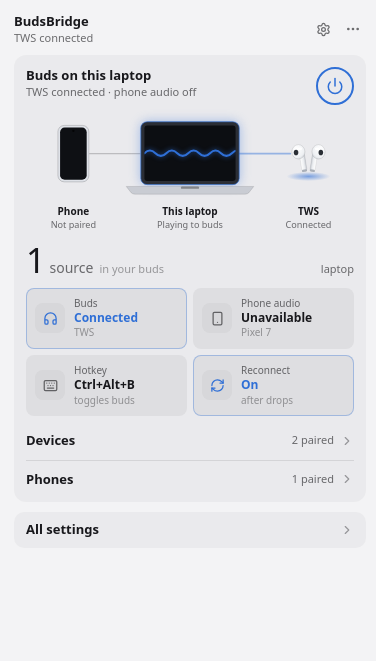
Test: Dock › lists a paired phone Windows won't stream from, with what to do
Expected: the button "Phones 1 paired" is shown, [26,461,354,498]
What coordinates should you click on to do the following:
click the button named "Phone audio unavailable for Pixel 7. Show why"
I would click on:
 (274, 318)
Its box is [193,288,354,349].
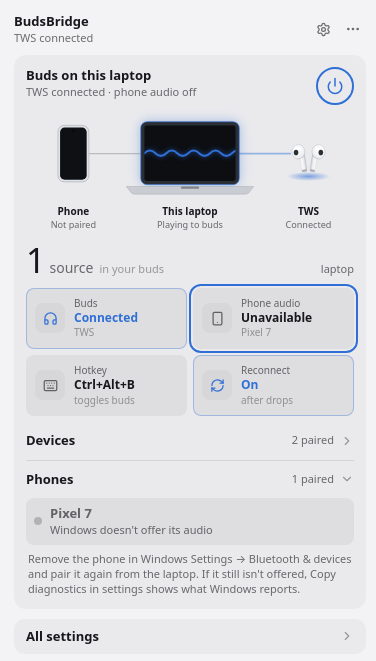
Now the list item "Pixel 7" shows "Windows doesn't offer its audio", box [50,522,213,537]
Now the text "pair it again from the laptop" is shown, box [28,550,352,596]
